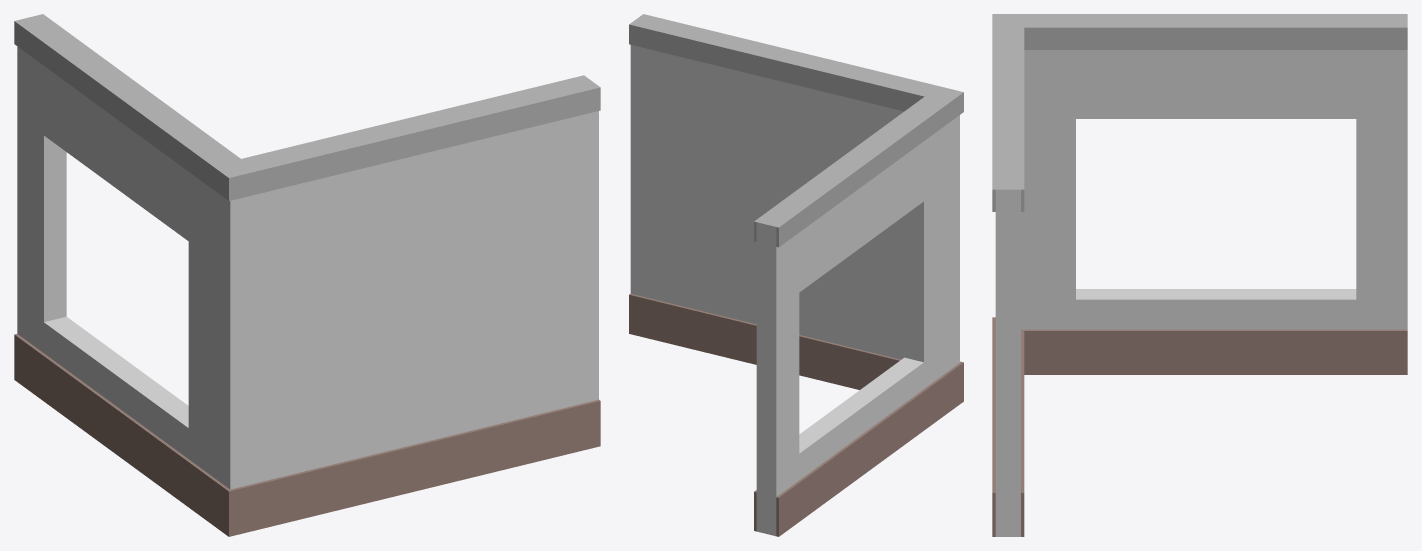
The model's file is Wall01-05.fbx.
The picture shows the model from 3 angles, left to right: view 1: azimuth 30°, elevation 25°; view 2: azimuth 150°, elevation 25°; view 3: azimuth 270°, elevation 25°; orthographic projection. The views are drawn at different scales.
Visible parts, largest first — view 1: Wall01-05; view 2: Wall01-05; view 3: Wall01-05.
Boxes of the visible parts, box(x1,y1,x2,y2) form: Wall01-05: box(14, 14, 600, 536); Wall01-05: box(629, 14, 963, 536); Wall01-05: box(992, 14, 1407, 536).
Bounding box in the file's own units: 3.25 × 3.25 × 3.
